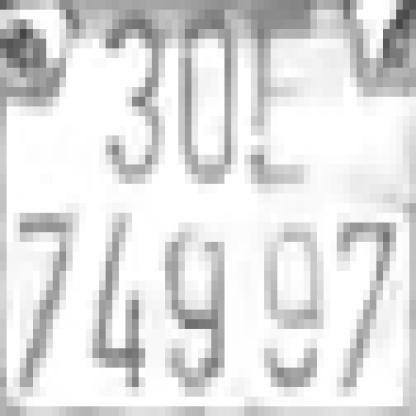0: (178, 19, 231, 184)
3: (106, 10, 165, 184)
4: (92, 203, 146, 377)
7: (20, 212, 72, 396), (336, 213, 390, 387)
9: (257, 213, 317, 377), (165, 213, 218, 377)
E: (244, 10, 304, 184)
